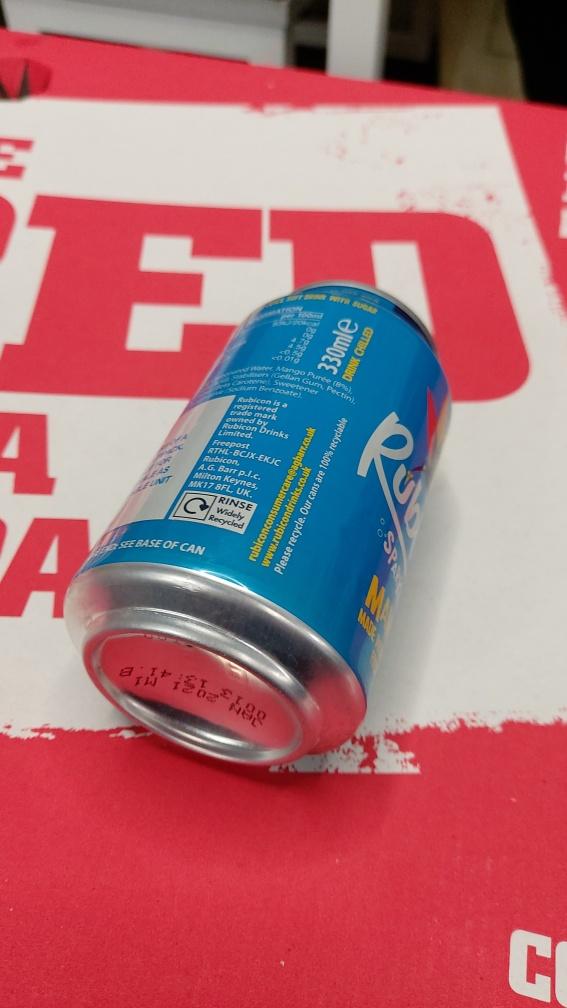can_blue: (47, 235, 494, 797)
